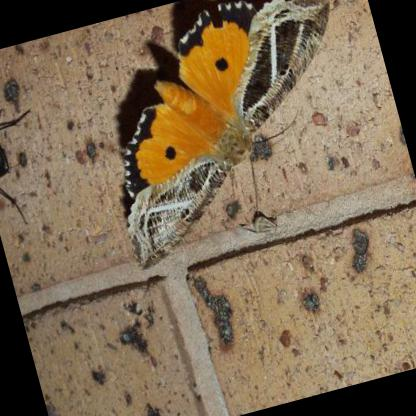fruit sucking moth: (122, 0, 333, 277)
